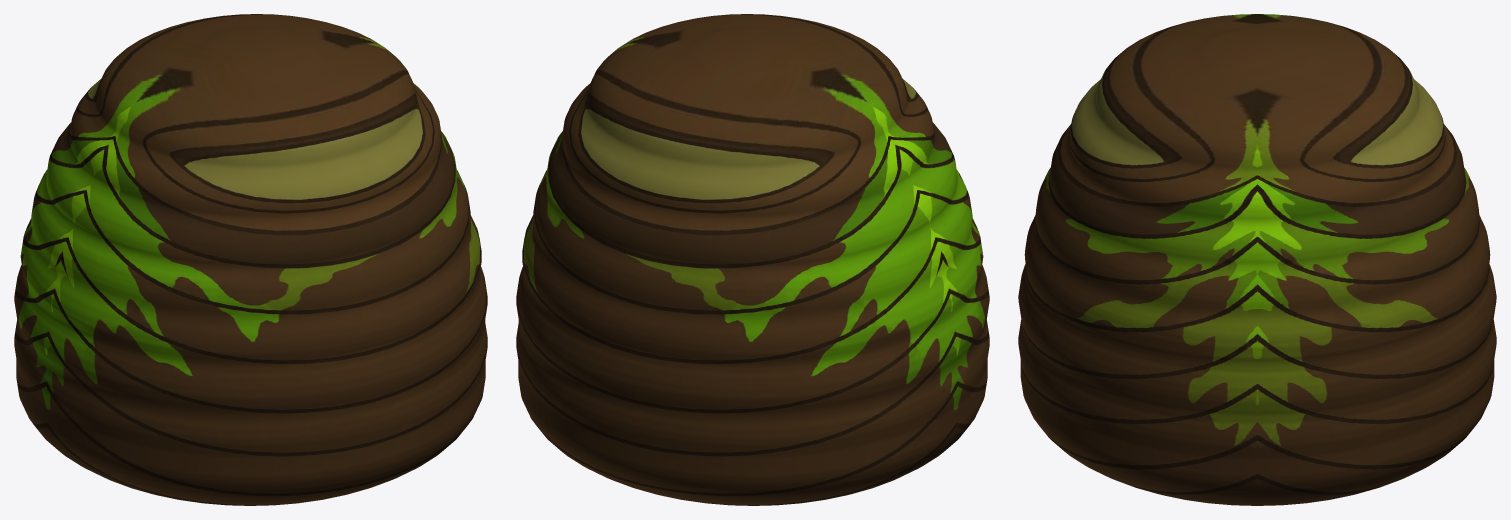
Rendered from ribbed_cylinder.glb.
The picture shows the model from 3 angles, left to right: view 1: azimuth 30°, elevation 25°; view 2: azimuth 150°, elevation 25°; view 3: azimuth 270°, elevation 25°; orthographic projection.
Visible parts, largest first — view 1: ribbed_cylinder; view 2: ribbed_cylinder; view 3: ribbed_cylinder.
Part boxes in pixels (x1,y1,x2,y2): ribbed_cylinder: (14, 14, 487, 505); ribbed_cylinder: (516, 14, 989, 505); ribbed_cylinder: (1018, 14, 1496, 505).
Size of the model in its own units: 1 by 0.9432 by 1.
1 material, 1 textured.
